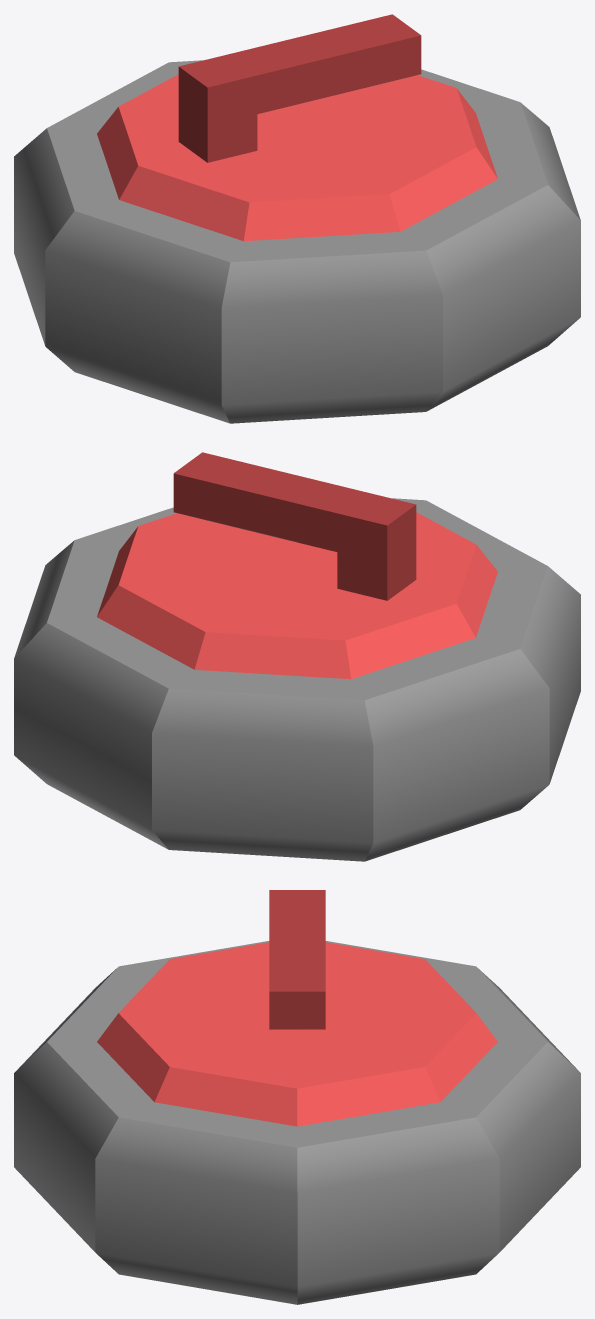
The model's file is curling.fbx.
3 views of the same model, one above another, from view 1: azimuth 30°, elevation 25°; view 2: azimuth 150°, elevation 25°; view 3: azimuth 270°, elevation 25° (orthographic). The views are drawn at different scales.
Visible parts, largest first — view 1: Curling; view 2: Curling; view 3: Curling.
Boxes of the visible parts, left/top/right/bottom form: Curling: left=14, top=14, right=580, bottom=423; Curling: left=14, top=452, right=580, bottom=861; Curling: left=14, top=890, right=580, bottom=1304.
Bounding box in the file's own units: 72.88 × 36.77 × 72.88.
